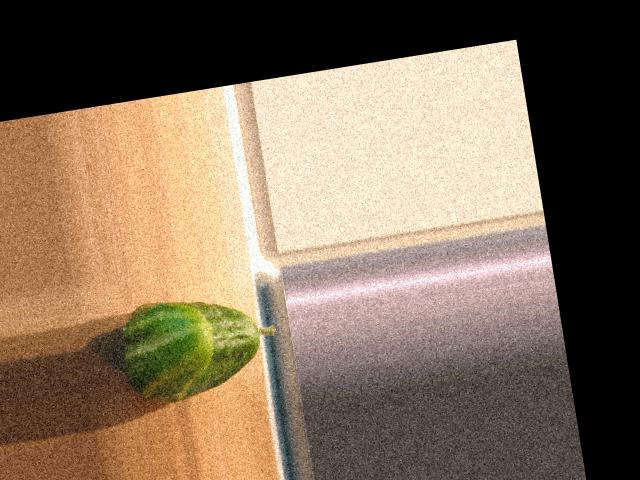cucumber: (115, 283, 285, 407)
